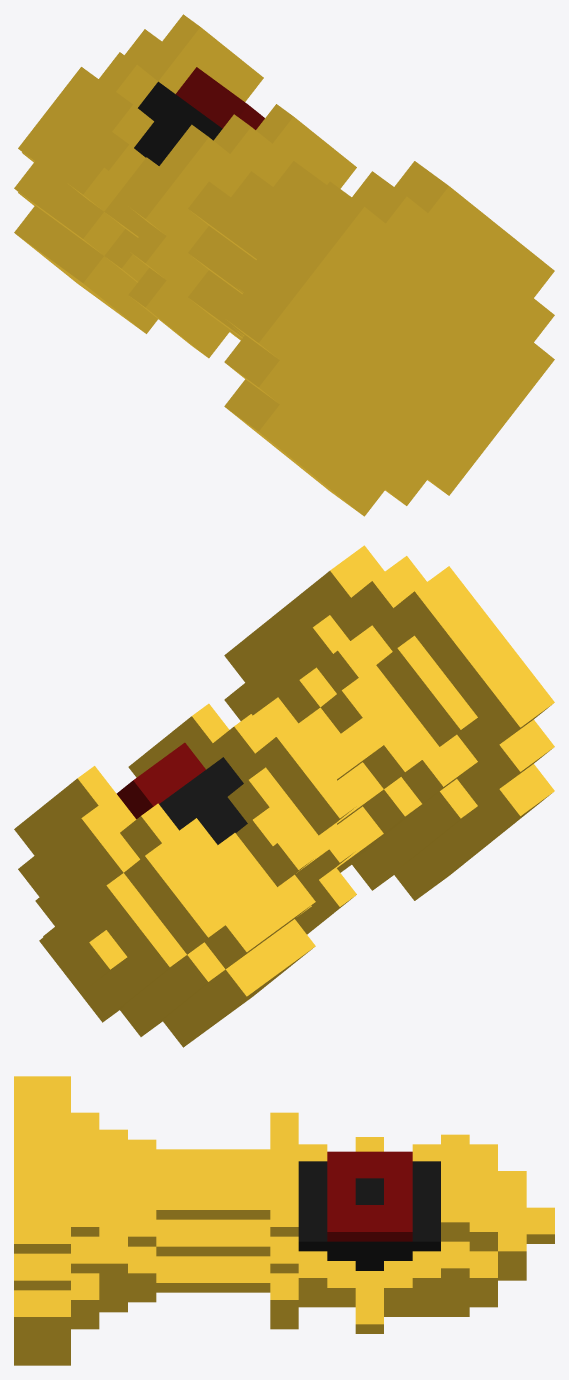
The model's file is Bishop body.fbx.
3 views of the same model, one above another, from view 1: azimuth 30°, elevation 25°; view 2: azimuth 150°, elevation 25°; view 3: azimuth 270°, elevation 25° (orthographic). The views are drawn at different scales.
Parts seen in each view (by area): view 1: Bishop body, Bishop head; view 2: Bishop body, Bishop head; view 3: Bishop body, Bishop head.
Part boxes in pixels (left/top/right/bottom): Bishop body: left=128, top=104, right=554, bottom=516; Bishop head: left=14, top=14, right=264, bottom=333; Bishop body: left=128, top=545, right=554, bottom=934; Bishop head: left=14, top=742, right=328, bottom=1047; Bishop body: left=14, top=1076, right=298, bottom=1365; Bishop head: left=298, top=1134, right=554, bottom=1333.
Bounding box in the file's own units: 0.9899 × 0.9899 × 1.9.
Materials: 1 (1 with a texture image).
